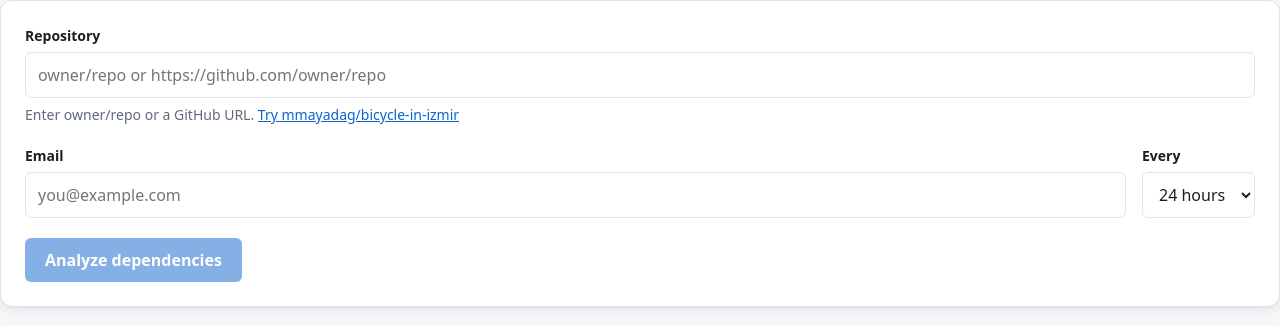
Scenario: RepositoryCheck › checks a repository once the input settles and reports the result
This screenshot has width=1280, height=326.
In the field labelled "Repository": (640, 75) [25,52,1255,98], type "mmayadag/ap"
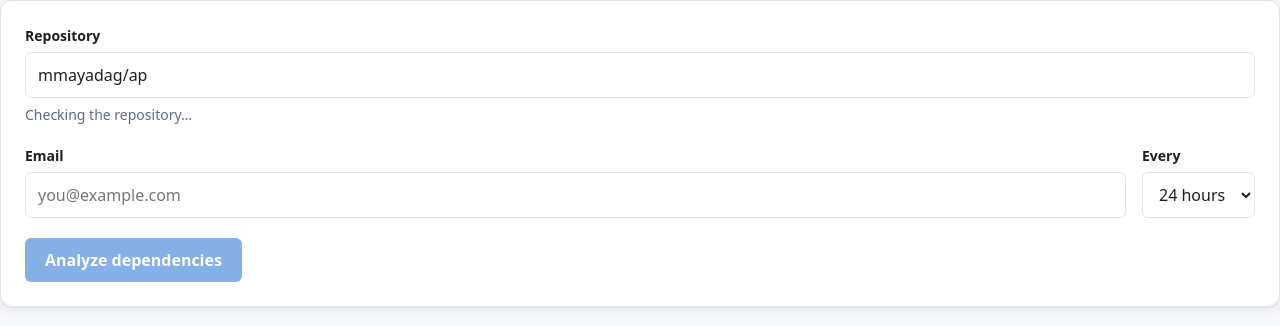
Replace the text in the field labelled "Repository" with "https://github.com/mmayadag/app.git": (640, 75) [25,52,1255,98]
Wait 300 ms
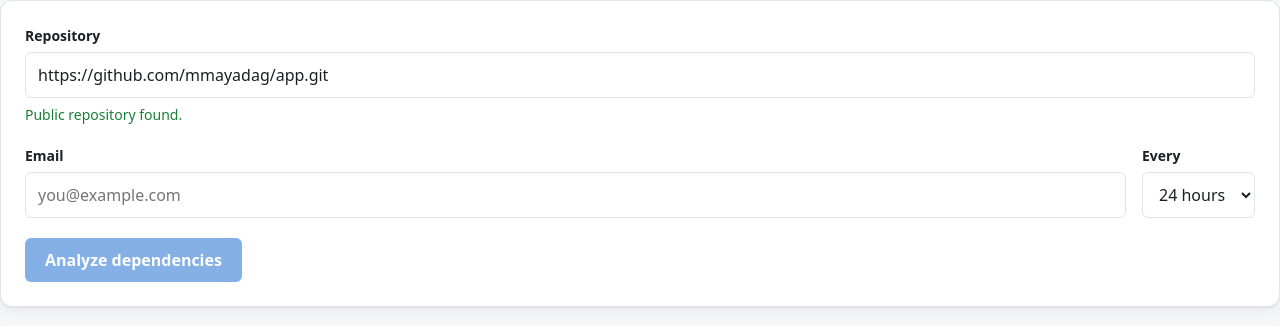
Expected: the text "Public repository found." is shown, [25,105,182,124]
